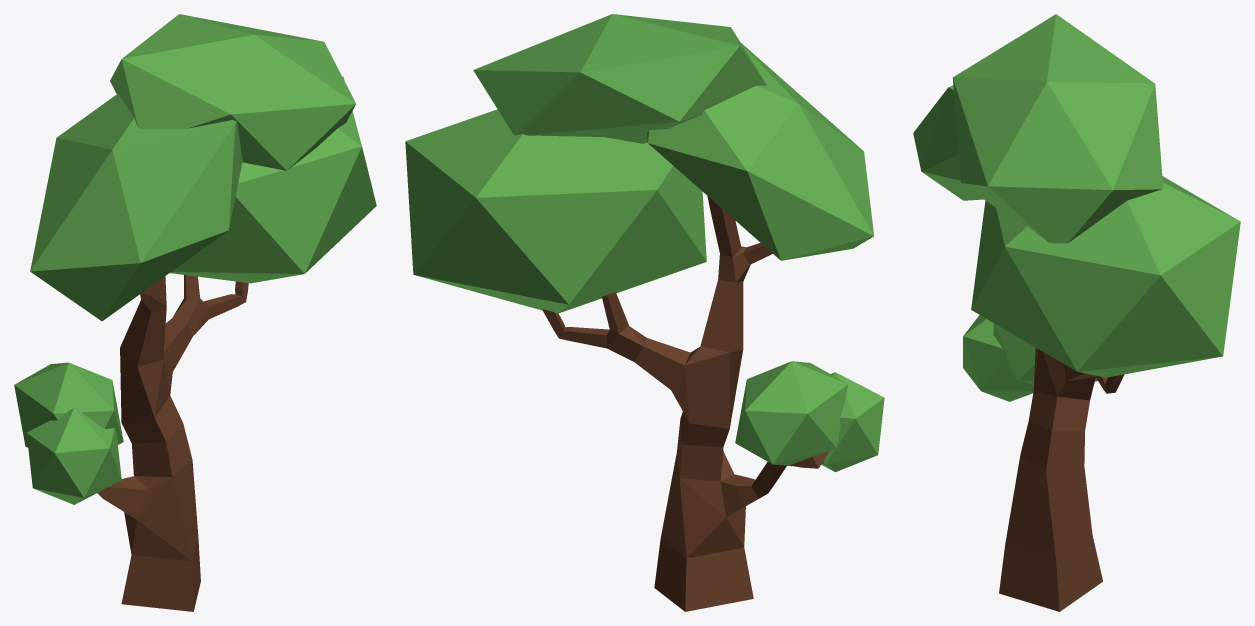
File: tree002.fbx
3 renders of one model, left to right at view 1: azimuth 30°, elevation 25°; view 2: azimuth 150°, elevation 25°; view 3: azimuth 270°, elevation 25°, orthographic. The views are drawn at different scales.
Parts seen in each view (by area): view 1: Icosphere.003; view 2: Icosphere.003; view 3: Icosphere.003.
Boxes of the visible parts, left/top/right/bottom form: Icosphere.003: left=14, top=14, right=376, bottom=611; Icosphere.003: left=405, top=14, right=884, bottom=611; Icosphere.003: left=913, top=14, right=1240, bottom=611.
Size of the model in its own units: 556 by 751 by 400.
